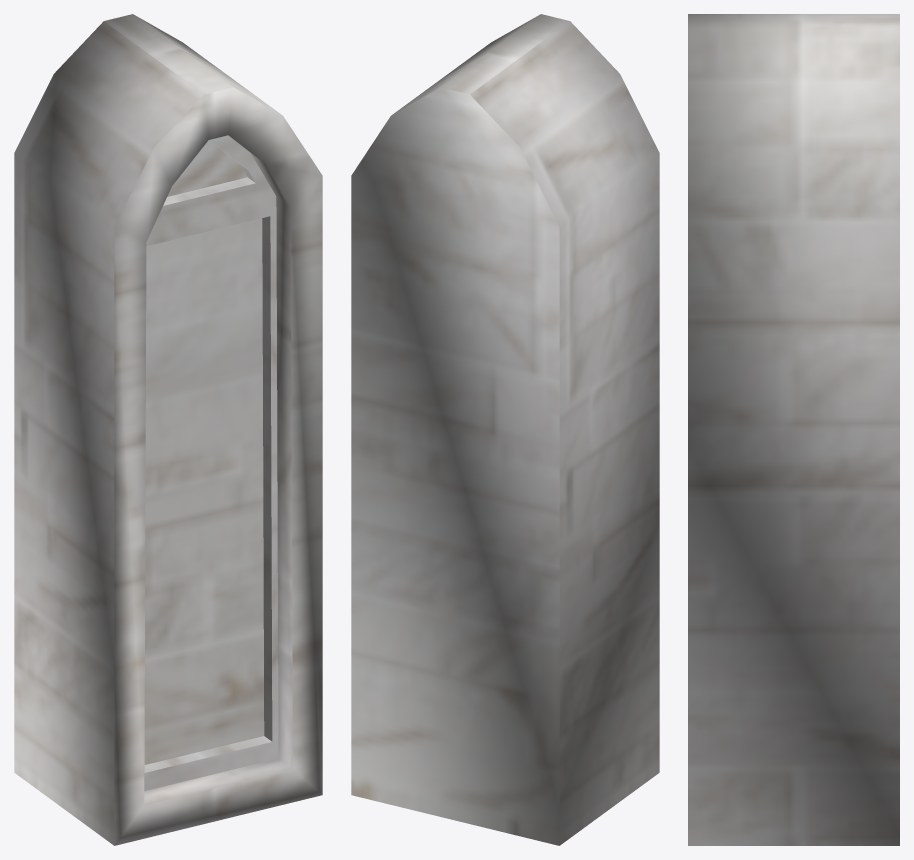
Rendered from TowerA_windowA.fbx.
3 renders of one model, left to right at view 1: azimuth 30°, elevation 25°; view 2: azimuth 150°, elevation 25°; view 3: azimuth 270°, elevation 25°, orthographic. The views are drawn at different scales.
Visible parts, largest first — view 1: Window, Glass, Frame; view 2: Window; view 3: Window.
Part boxes in pixels (x1,y1,x2,y2): Window: (14,14,322,845); Glass: (144,143,264,764); Frame: (144,135,278,791); Window: (351,14,659,845); Window: (688,14,899,845).
Size of the model in its own units: 578 by 1933 by 482.
